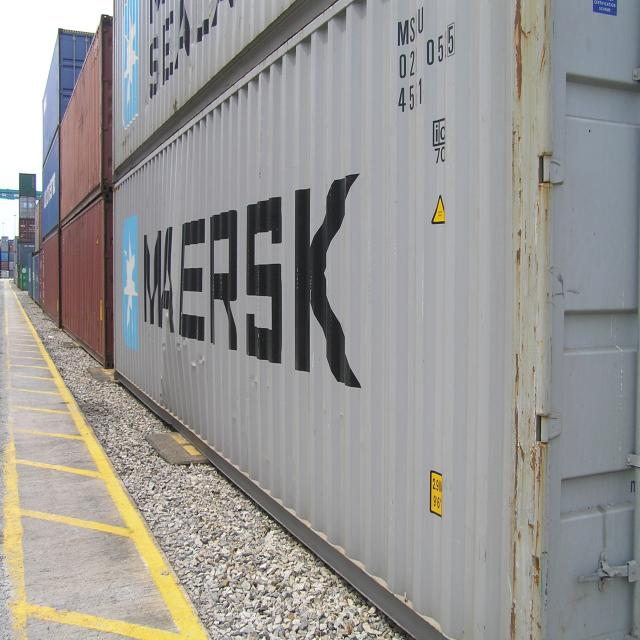dent: (149, 308, 205, 429)
